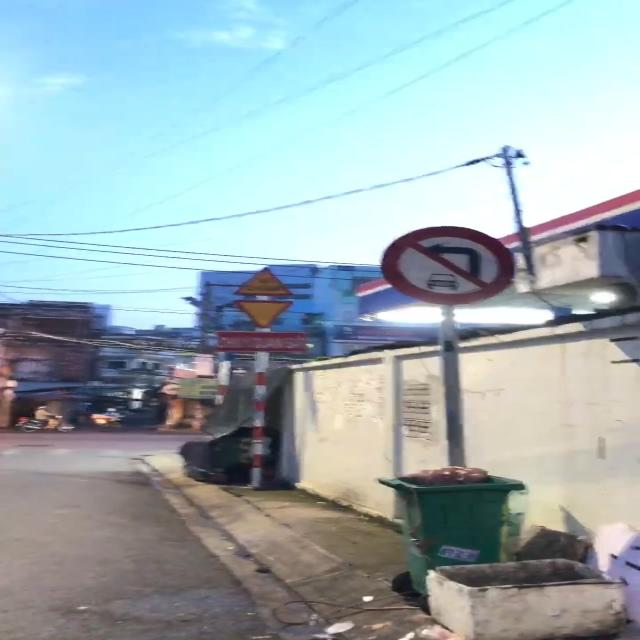Bien bao di cham: (226, 260, 296, 300)
Bien bao giao nhau voi duong uu tien: (228, 299, 300, 330)
